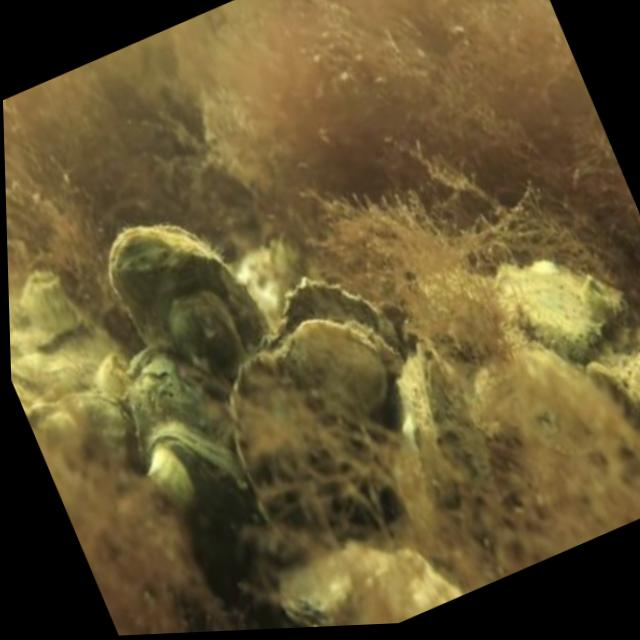Oyster-Closed: (32, 392, 133, 473)
Oyster-Indeterminate: (108, 223, 263, 355), (143, 424, 253, 532), (495, 256, 622, 346), (333, 550, 467, 626), (130, 348, 239, 440), (270, 539, 374, 627), (171, 294, 248, 376), (589, 350, 640, 422)
Oyster-Open: (239, 278, 397, 420)
